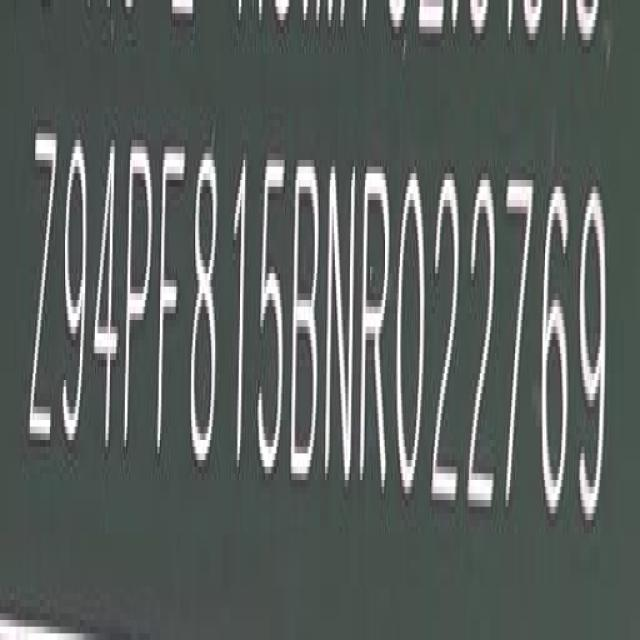0: (395, 168, 428, 503)
1: (231, 153, 252, 484)
2: (432, 174, 462, 513), (466, 175, 495, 522)
4: (95, 133, 121, 458)
5: (258, 152, 286, 482)
6: (542, 183, 574, 521)
7: (506, 169, 536, 524)
8: (190, 139, 219, 465)
9: (580, 195, 610, 525), (64, 134, 88, 453)
B: (294, 152, 324, 482)
F: (157, 138, 186, 464)
N: (326, 160, 357, 490)
P: (125, 137, 155, 464)
R: (360, 158, 392, 490)
Z: (29, 127, 58, 457)
